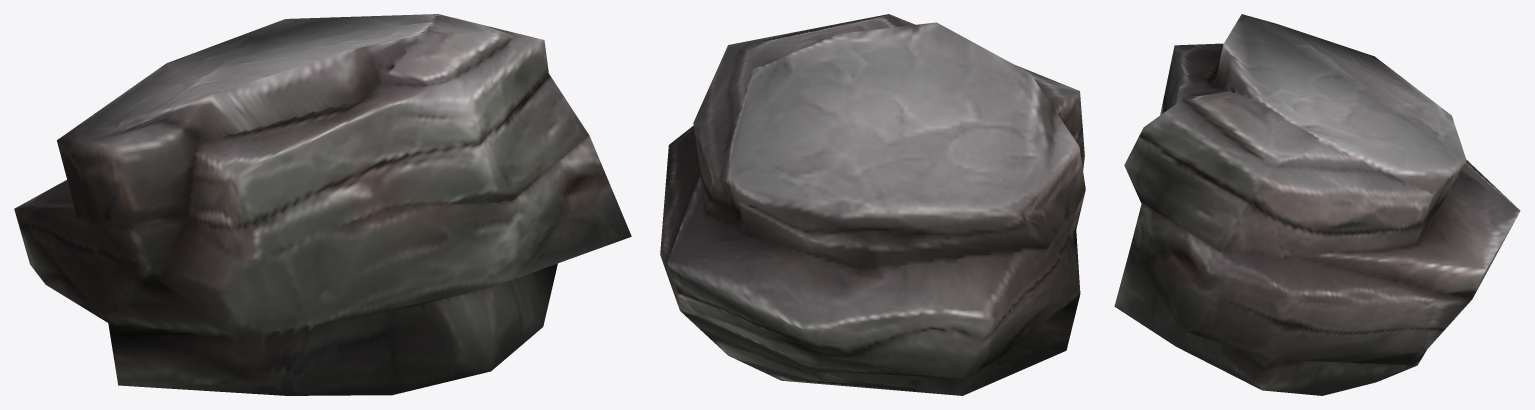
File: Mid 3.fbx
3 views of the same model, side by side, from view 1: azimuth 30°, elevation 25°; view 2: azimuth 150°, elevation 25°; view 3: azimuth 270°, elevation 25° (orthographic). The views are drawn at different scales.
Parts seen in each view (by area): view 1: Mid_3; view 2: Mid_3; view 3: Mid_3.
Boxes of the visible parts, bbox=[...] form: Mid_3: bbox=[14, 14, 631, 395]; Mid_3: bbox=[660, 14, 1085, 395]; Mid_3: bbox=[1114, 14, 1520, 395].
Size of the model in its own units: 405 by 304 by 369.
